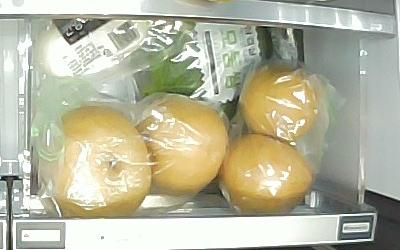pear_vinyl: (39, 106, 152, 218), (138, 97, 227, 196), (222, 133, 315, 216), (241, 65, 324, 142)
